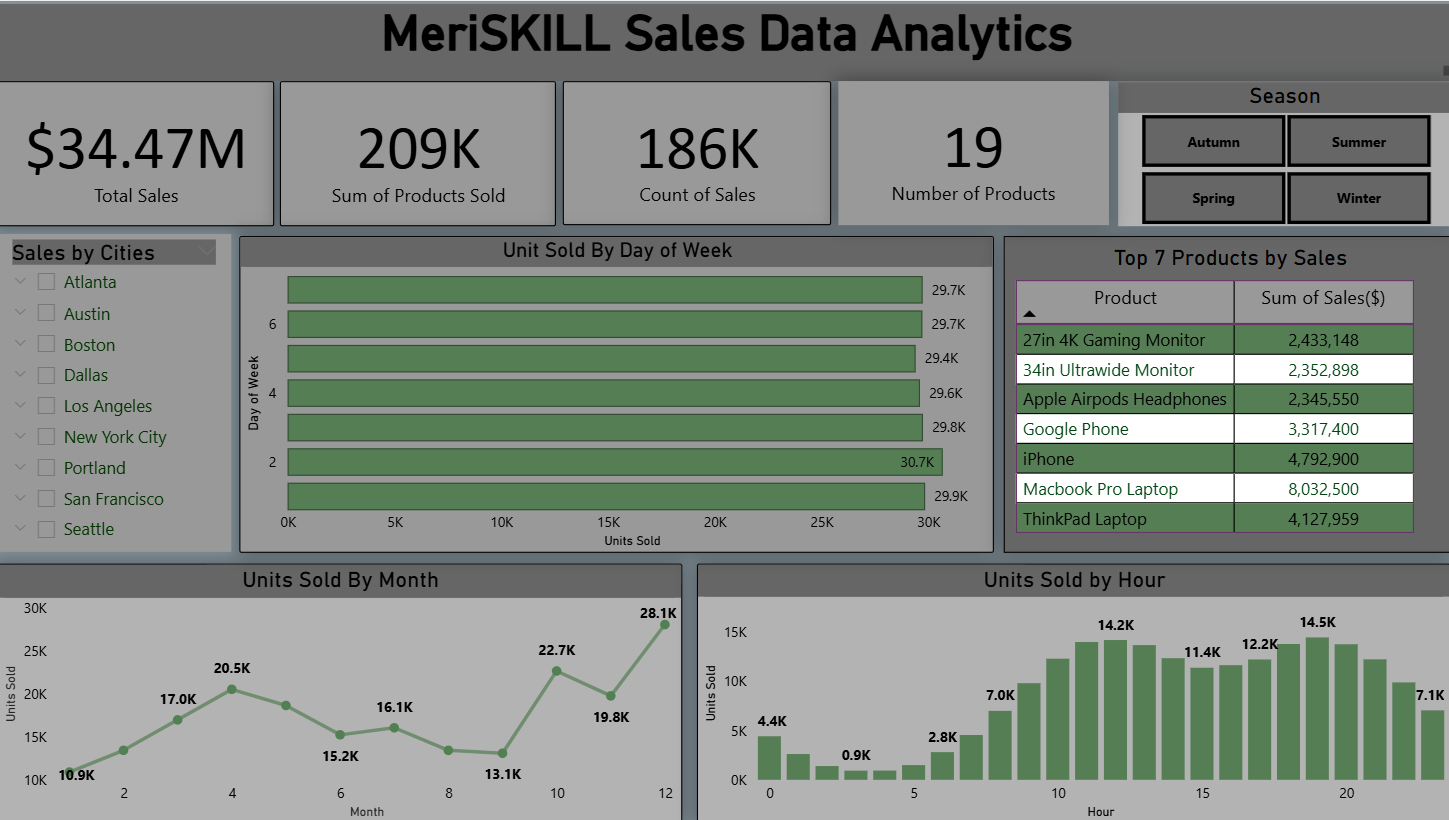

This screenshot's page, from the dashboard's own definition file:
{"tool":"powerbi","page":{"name":"Page 1","canvas":[1280,720],"ordinal":0},"visuals":[{"type":"card","fields":{"Values":["MeriSKILL_Analysed_Sales_Data.Total Sales"]},"box":[0,70,242.4,126.8],"z":0},{"type":"card","fields":{"Values":["MeriSKILL_Analysed_Sales_Data.Sum of Products Sold"]},"box":[247.4,70,241.3,126.8],"z":1000},{"type":"card","fields":{"Values":["MeriSKILL_Analysed_Sales_Data.Count of Sales"]},"box":[494.8,70,234.2,125.7],"z":2000},{"type":"lineChart","title":"Units Sold By Month","fields":{"Y":["Sum(MeriSKILL_Analysed_Sales_Data.Quantity Ordered)"],"Category":["MeriSKILL_Analysed_Sales_Data.Month"]},"box":[0,491.9,599.1,227.8],"z":3000},{"type":"columnChart","fields":{"Category":["MeriSKILL_Analysed_Sales_Data.Hour"],"Y":["Sum(MeriSKILL_Analysed_Sales_Data.Quantity Ordered)"]},"box":[611.5,491.9,658.5,227.8],"z":4000},{"type":"barChart","title":"Unit Sold By Day of Week","fields":{"Category":["MeriSKILL_Analysed_Sales_Data.Day of Week"],"Y":["Sum(MeriSKILL_Analysed_Sales_Data.Quantity Ordered)"]},"box":[211.8,205.6,659.4,276.5],"z":5000},{"type":"textbox","title":"MeriSKILL Sales Data Analytics","box":[0,2.7,1276.5,57.8],"z":6000},{"type":"tableEx","title":"Top 7 Products by Sales","fields":{"Values":["MeriSKILL_Analysed_Sales_Data.Product","Sum(MeriSKILL_Analysed_Sales_Data.Sales)"]},"box":[880.1,205.6,391.7,277.4],"z":7000},{"type":"slicer","title":"Season","fields":{"Values":["MeriSKILL_Analysed_Sales_Data.Season"]},"box":[979.5,71,292,125.7],"z":8000},{"type":"card","fields":{"Values":["MeriSKILL_Analysed_Sales_Data.Number of Products"]},"box":[735.6,70,236.6,125.9],"z":9000},{"type":"slicer","fields":{"Values":["MeriSKILL_Analysed_Sales_Data.City","MeriSKILL_Analysed_Sales_Data.Sales"]},"box":[0,203.8,204.7,278.3],"z":10000}]}

Visuals, with their boxes in screenshot pixels (x1, y1, x2, y2), scaled from the page's 1280x720 canvas onto the 1449x820 screenshot:
card - MeriSKILL_Analysed_Sales_Data.Total Sales: 0:80:274:224
card - MeriSKILL_Analysed_Sales_Data.Sum of Products Sold: 280:80:553:224
card - MeriSKILL_Analysed_Sales_Data.Count of Sales: 560:80:825:223
"Units Sold By Month" lineChart: 0:560:678:819
columnChart - MeriSKILL_Analysed_Sales_Data.Hour x Sum(MeriSKILL_Analysed_Sales_Data.Quantity Ordered): 692:560:1438:819
"Unit Sold By Day of Week" barChart: 240:234:986:549
"MeriSKILL Sales Data Analytics" textbox: 0:3:1445:69
"Top 7 Products by Sales" tableEx: 996:234:1440:550
"Season" slicer: 1109:81:1439:224
card - MeriSKILL_Analysed_Sales_Data.Number of Products: 833:80:1101:223
slicer - MeriSKILL_Analysed_Sales_Data.City x MeriSKILL_Analysed_Sales_Data.Sales: 0:232:232:549
